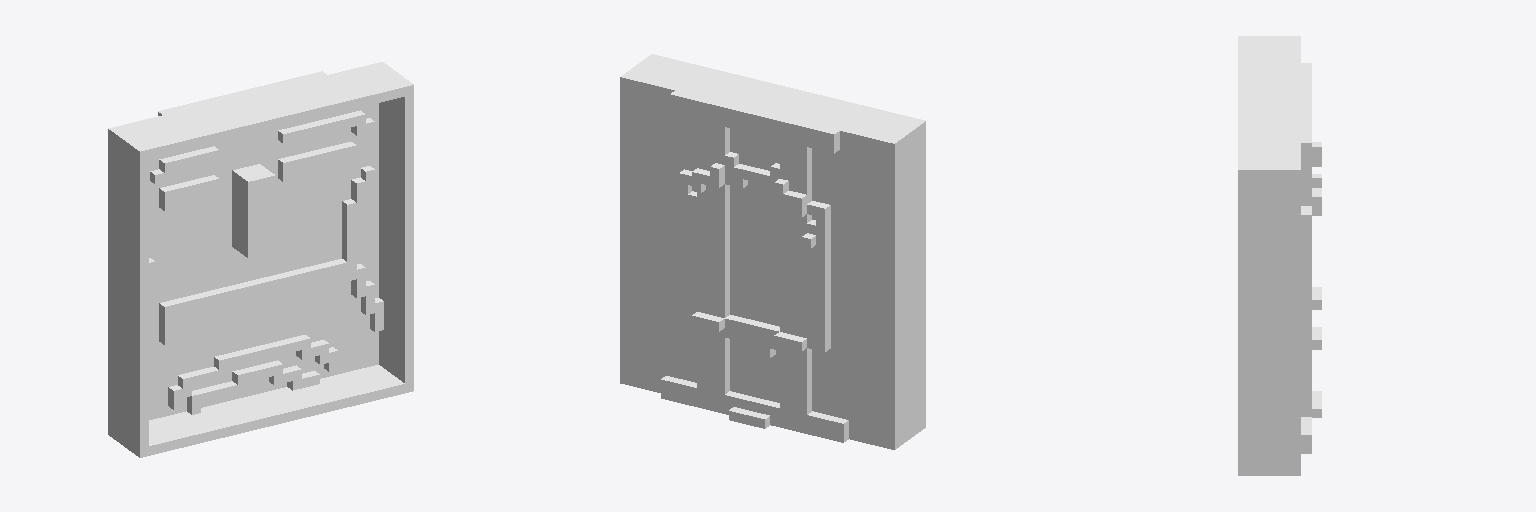
File: face_shield.obj
The picture shows the model from 3 angles: view 1: azimuth 30°, elevation 25°; view 2: azimuth 150°, elevation 25°; view 3: azimuth 270°, elevation 25°; orthographic projection.
Visible parts, largest first — view 1: face_shield; view 2: face_shield; view 3: face_shield.
Part boxes in pixels (bbox=[...]): face_shield: bbox=[108, 62, 413, 457]; face_shield: bbox=[620, 54, 925, 449]; face_shield: bbox=[1238, 36, 1321, 475].
Bounding box in the file's own units: 30 × 32 × 8.